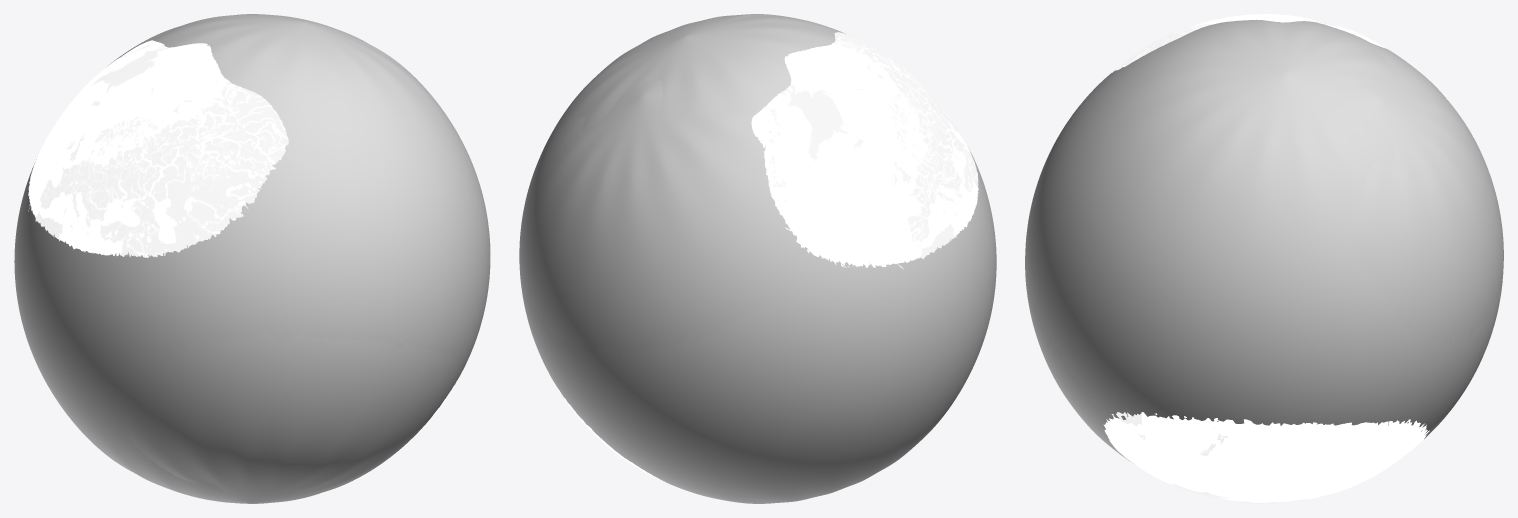
The model's file is earth.glb.
The picture shows the model from 3 angles, left to right: view 1: azimuth 30°, elevation 25°; view 2: azimuth 150°, elevation 25°; view 3: azimuth 270°, elevation 25°; orthographic projection.
Visible parts, largest first — view 1: atmo, cloud, surface; view 2: atmo, cloud, surface; view 3: atmo, cloud, surface.
Part boxes in pixels (bbox=[...]): atmo: bbox=[14, 14, 490, 503]; cloud: bbox=[108, 14, 460, 503]; surface: bbox=[28, 40, 462, 447]; atmo: bbox=[519, 14, 996, 503]; cloud: bbox=[520, 78, 804, 356]; surface: bbox=[552, 32, 978, 481]; atmo: bbox=[1025, 19, 1503, 438]; cloud: bbox=[1025, 43, 1503, 463]; surface: bbox=[1103, 14, 1429, 503].
Bounding box in the file's own units: 1198 × 1231 × 1197.
2 materials, 1 textured.
